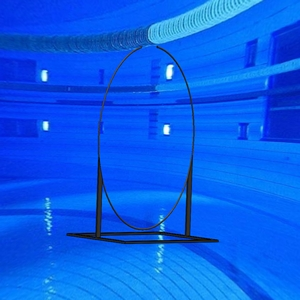circle: (66, 43, 220, 245)
